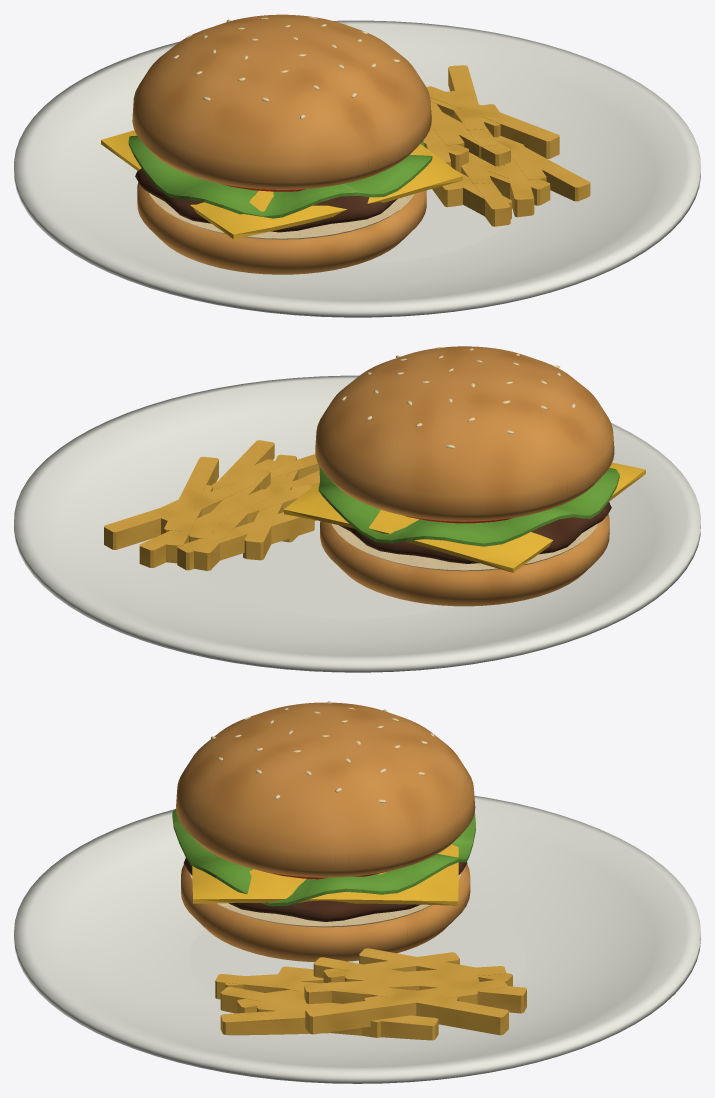
Rendered from innerscene-burger-with-fries.glb.
3 renders of one model, top to bottom at view 1: azimuth 30°, elevation 25°; view 2: azimuth 150°, elevation 25°; view 3: azimuth 270°, elevation 25°, orthographic.
Parts seen in each view (by area): view 1: Finite white ceramic serving plate, Domed upper sesame bun, Burger lower toasted bun, Ruffled lettuce layer, Finite draped cheese square, Irregular browned beef patty, Individual golden potato fry 15, Lower bun exposed soft crumb, Individual golden potato fry 5, Individual golden potato fry 13, Individual golden potato fry 20, Individual golden potato fry 4 (+9 smaller); view 2: Finite white ceramic serving plate, Domed upper sesame bun, Burger lower toasted bun, Ruffled lettuce layer, Finite draped cheese square, Irregular browned beef patty, Individual golden potato fry 16, Individual golden potato fry 20, Lower bun exposed soft crumb, Individual golden potato fry 15, Individual golden potato fry 11, Individual golden potato fry 13 (+7 smaller); view 3: Finite white ceramic serving plate, Domed upper sesame bun, Burger lower toasted bun, Ruffled lettuce layer, Finite draped cheese square, Individual golden potato fry 15, Individual golden potato fry 20, Irregular browned beef patty, Individual golden potato fry 5, Individual golden potato fry 10, Individual golden potato fry 18, Lower bun exposed soft crumb (+8 smaller).
Boxes of the visible parts, box(x1,y1,x2,y2) form: Finite white ceramic serving plate: box(14, 20, 700, 317); Domed upper sesame bun: box(132, 14, 431, 189); Burger lower toasted bun: box(137, 182, 426, 274); Ruffled lettuce layer: box(128, 135, 432, 218); Finite draped cheese square: box(101, 130, 462, 239); Irregular browned beef patty: box(135, 168, 397, 232); Individual golden potato fry 15: box(426, 86, 559, 158); Lower bun exposed soft crumb: box(149, 193, 414, 239); Individual golden potato fry 5: box(494, 136, 590, 201); Individual golden potato fry 13: box(431, 106, 510, 166); Individual golden potato fry 20: box(448, 65, 485, 130); Individual golden potato fry 4: box(504, 156, 534, 217); Finite white ceramic serving plate: box(14, 375, 700, 672); Domed upper sesame bun: box(315, 346, 614, 521); Burger lower toasted bun: box(320, 514, 609, 606); Ruffled lettuce layer: box(318, 466, 619, 546); Finite draped cheese square: box(283, 462, 645, 572); Irregular browned beef patty: box(339, 502, 611, 563); Individual golden potato fry 16: box(177, 512, 314, 570); Individual golden potato fry 20: box(104, 488, 234, 549); Lower bun exposed soft crumb: box(331, 523, 598, 571); Individual golden potato fry 15: box(164, 457, 218, 533); Individual golden potato fry 11: box(244, 484, 291, 560); Individual golden potato fry 13: box(189, 468, 270, 542); Finite white ceramic serving plate: box(14, 795, 700, 1083); Domed upper sesame bun: box(176, 702, 475, 877); Burger lower toasted bun: box(181, 864, 470, 962); Ruffled lettuce layer: box(172, 809, 475, 906); Finite draped cheese square: box(192, 844, 458, 905); Individual golden potato fry 15: box(305, 986, 478, 1034); Individual golden potato fry 20: box(363, 985, 508, 1035); Irregular browned beef patty: box(184, 858, 467, 921); Individual golden potato fry 5: box(220, 1009, 330, 1035); Individual golden potato fry 10: box(257, 1001, 438, 1040); Individual golden potato fry 18: box(345, 970, 526, 1013); Lower bun exposed soft crumb: box(190, 873, 460, 927).
Bounding box in the file's own units: 0.28 × 0.0894 × 0.28.
Materials: 10 (10 with a texture image).
